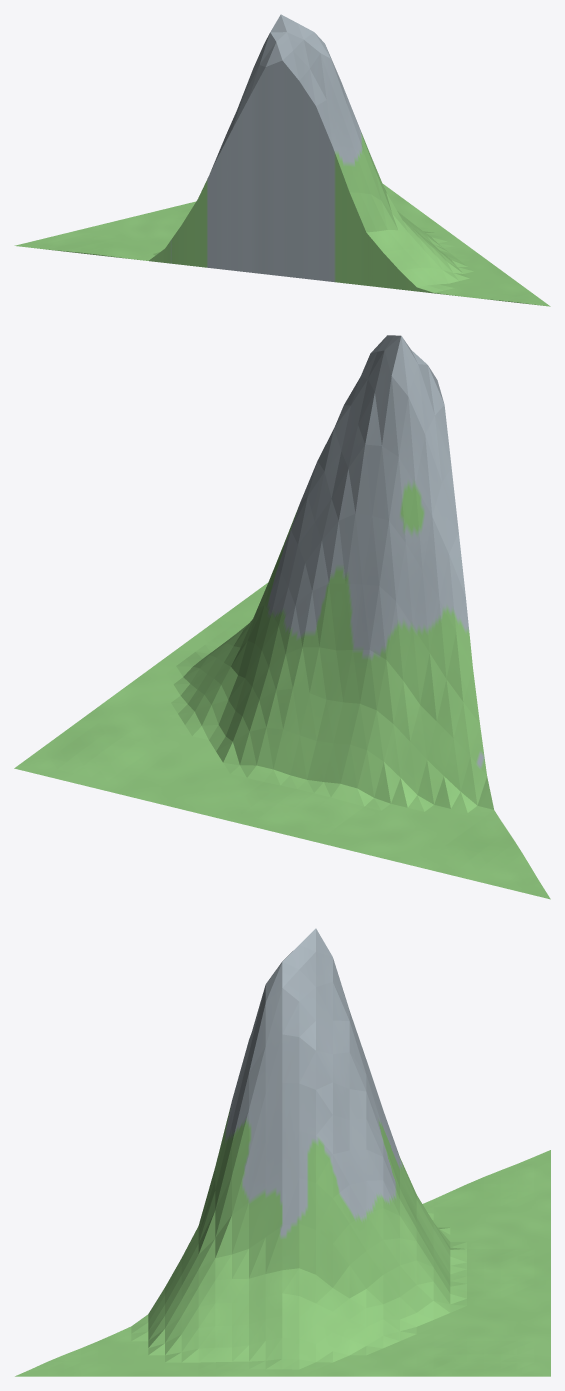
Rendered from Grass_RockyMountains_07_SE.obj.
3 renders of one model, top to bottom at view 1: azimuth 30°, elevation 25°; view 2: azimuth 150°, elevation 25°; view 3: azimuth 270°, elevation 25°, orthographic. The views are drawn at different scales.
Size of the model in its own units: 10 by 7.03 by 10.
Materials: 1 (1 with a texture image).
